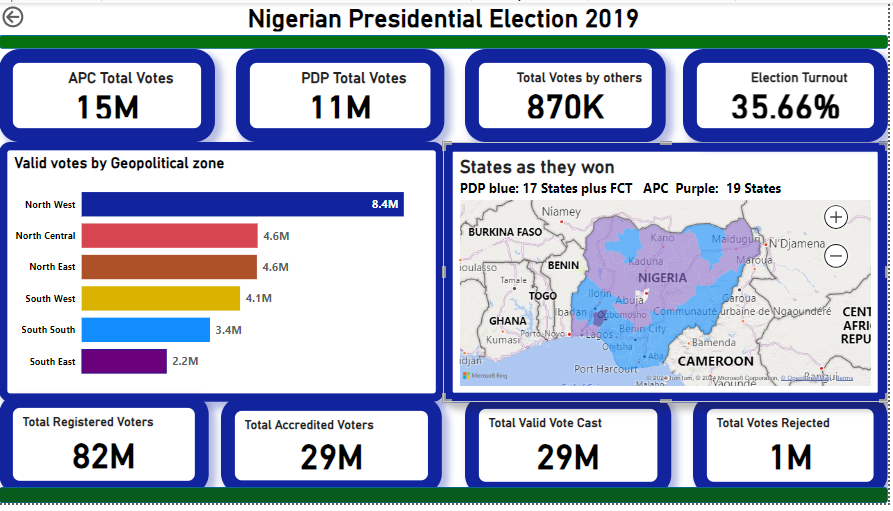

The page's visual inventory and layout, read from the dashboard file:
{"tool":"powerbi","page":{"name":"Page 1","canvas":[1280,720],"ordinal":0},"visuals":[{"type":"shape","title":"Nigerian Presidential Election 2019","box":[0,0,1280,65.8],"z":0},{"type":"card","title":"APC Total Votes","fields":{"Values":["Sum(2019elections.APC Votes)"]},"box":[0,66.2,311,133.9],"z":1000},{"type":"card","title":"PDP Total Votes","fields":{"Values":["Sum(2019elections.PDP Votes)"]},"box":[341.3,66.2,299.5,133.9],"z":2000},{"type":"card","title":" Total Votes by others","fields":{"Values":["Sum(2019elections.Others)"]},"box":[671,66.2,289.4,133.9],"z":3000},{"type":"barChart","title":" Valid votes by Geopolitical zone","fields":{"Category":["2019elections.Geopolitical zone","2019elections.Valid votes"],"Y":["Sum(2019elections.Valid votes)"]},"box":[0,200.2,640.8,374.4],"z":4000},{"type":"actionButton","box":[0,0,100,40],"z":5000},{"type":"card","title":"Total Registered Voters","fields":{"Values":["Sum(2019elections.Number of Reg Voters)"]},"box":[0,563.3,301.7,145],"z":6000},{"type":"card","title":"Total Accredited Voters","fields":{"Values":["Sum(2019elections.Accredited Voters)"]},"box":[320,566.7,318.3,140],"z":7000},{"type":"card","title":"Total Valid Vote  Cast","fields":{"Values":["Sum(2019elections.Votes cast)"]},"box":[671.7,565,296.7,145],"z":8000},{"type":"card","title":"Total Votes Rejected ","fields":{"Values":["Sum(2019elections.Rejected votes)"]},"box":[1000,565,280,145],"z":9000},{"type":"filledMap","title":"States as they won","fields":{"Category":["2019elections.State"],"Series":["2019elections.Valid votes"]},"box":[640,200,640,375],"z":10000},{"type":"card","title":"Election Turnout","fields":{"Values":["2019elections.Percentage Turnout"]},"box":[985,66.2,295.2,133.9],"z":11000},{"type":"shape","box":[0,696.7,1280,23.3],"z":12000}]}

Visuals, with their boxes in screenshot pixels (x1, y1, x2, y2), scaled from the page's 1280x720 canvas onto the 893x511 screenshot:
"Nigerian Presidential Election 2019" shape: [0, 0, 892, 47]
"APC Total Votes" card: [0, 47, 217, 142]
"PDP Total Votes" card: [238, 47, 447, 142]
" Total Votes by others" card: [468, 47, 670, 142]
" Valid votes by Geopolitical zone" barChart: [0, 142, 447, 408]
actionButton: [0, 0, 70, 28]
"Total Registered Voters" card: [0, 400, 210, 503]
"Total Accredited Voters" card: [223, 402, 445, 502]
"Total Valid Vote  Cast" card: [469, 401, 676, 504]
"Total Votes Rejected " card: [698, 401, 892, 504]
"States as they won" filledMap: [446, 142, 892, 408]
"Election Turnout" card: [687, 47, 892, 142]
shape: [0, 494, 892, 510]
